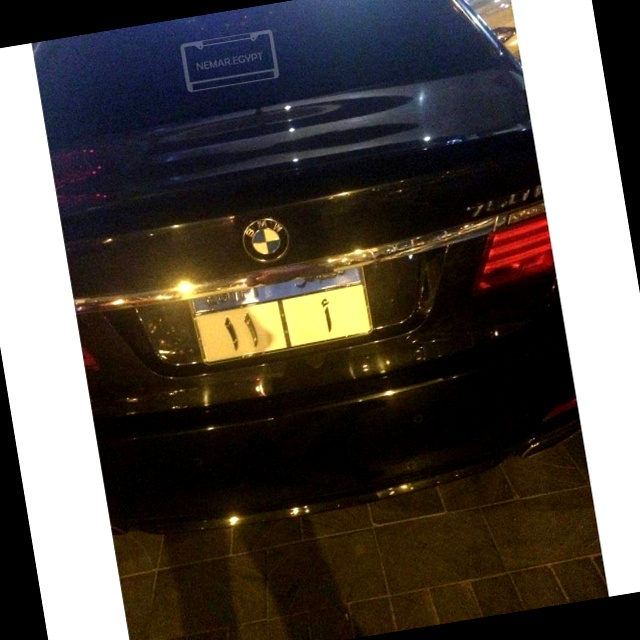License Plate: (185, 263, 379, 371)
